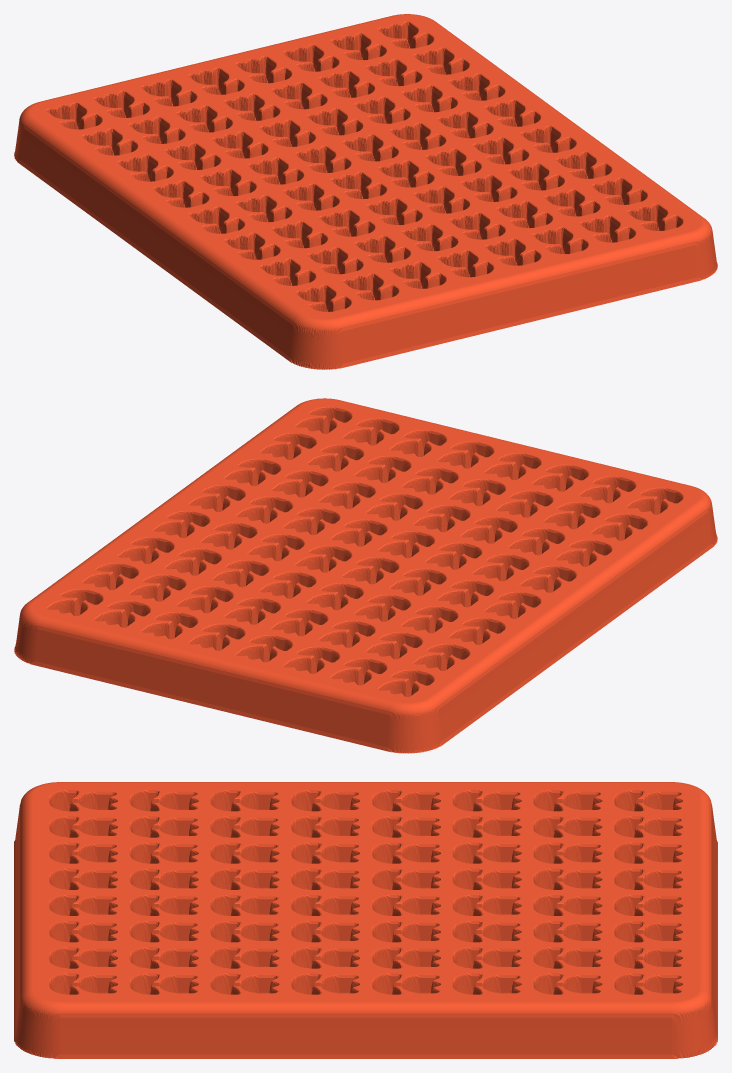
Rendered from mold.glb.
The picture shows the model from 3 angles, top to bottom: view 1: azimuth 30°, elevation 25°; view 2: azimuth 150°, elevation 25°; view 3: azimuth 270°, elevation 25°; orthographic projection. The views are drawn at different scales.
Parts seen in each view (by area): view 1: geometry_0; view 2: geometry_0; view 3: geometry_0.
Part boxes in pixels (x1,y1,x2,y2): geometry_0: (14,14,717,369); geometry_0: (14,398,717,753); geometry_0: (14,782,717,1058).
Size of the model in its own units: 0.1067 by 0.0105 by 0.1355.
